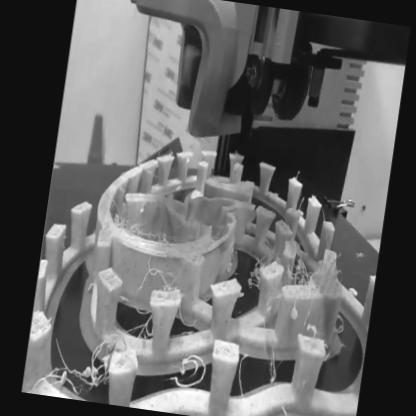fail: (46, 339, 110, 403), (231, 342, 283, 399), (287, 251, 324, 303), (112, 219, 170, 247), (244, 247, 272, 304), (169, 352, 209, 391)
